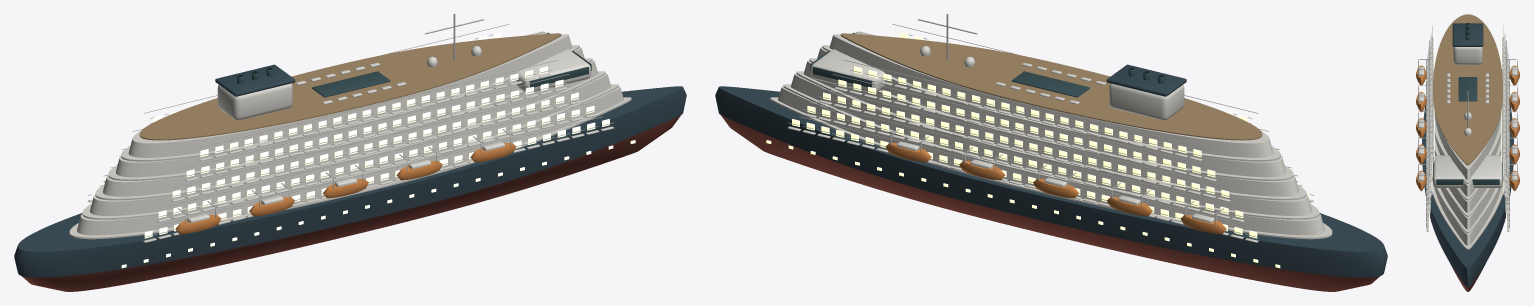
Rendered from coastal_cruise.glb.
The picture shows the model from 3 angles, left to right: view 1: azimuth 30°, elevation 25°; view 2: azimuth 150°, elevation 25°; view 3: azimuth 270°, elevation 25°; orthographic projection. The views are drawn at different scales.
Visible parts, largest first — view 1: passenger deck, curved ship hull, upper teak promenade, underwater hull, Cube, railing, enclosed lifeboat, Cube.561; view 2: passenger deck, curved ship hull, upper teak promenade, underwater hull, Cube, railing, enclosed lifeboat, Cube.561; view 3: passenger deck, upper teak promenade, curved ship hull, railing, enclosed lifeboat, Cube.561, Cube, underwater hull.
Boxes of the visible parts, box(x1,y1,x2,y2) form: passenger deck: box(69, 31, 631, 242); curved ship hull: box(14, 64, 686, 277); upper teak promenade: box(139, 33, 561, 140); underwater hull: box(22, 115, 680, 291); Cube: box(59, 32, 635, 268); railing: box(88, 14, 613, 237); enclosed lifeboat: box(175, 143, 516, 234); Cube.561: box(237, 32, 591, 97); passenger deck: box(770, 31, 1332, 242); curved ship hull: box(715, 64, 1387, 277); upper teak promenade: box(840, 33, 1262, 140); underwater hull: box(721, 115, 1379, 291); Cube: box(766, 32, 1342, 268); railing: box(788, 14, 1313, 237); enclosed lifeboat: box(885, 143, 1226, 234); Cube.561: box(810, 32, 1164, 97); passenger deck: box(1418, 14, 1517, 249); upper teak promenade: box(1433, 14, 1502, 165); curved ship hull: box(1422, 23, 1513, 287); railing: box(1418, 25, 1517, 227); enclosed lifeboat: box(1416, 65, 1519, 191); Cube.561: box(1433, 23, 1502, 184); Cube: box(1422, 32, 1513, 250); underwater hull: box(1449, 262, 1486, 291).
Bounding box in the file's own units: 91 × 23.5 × 16.7.
